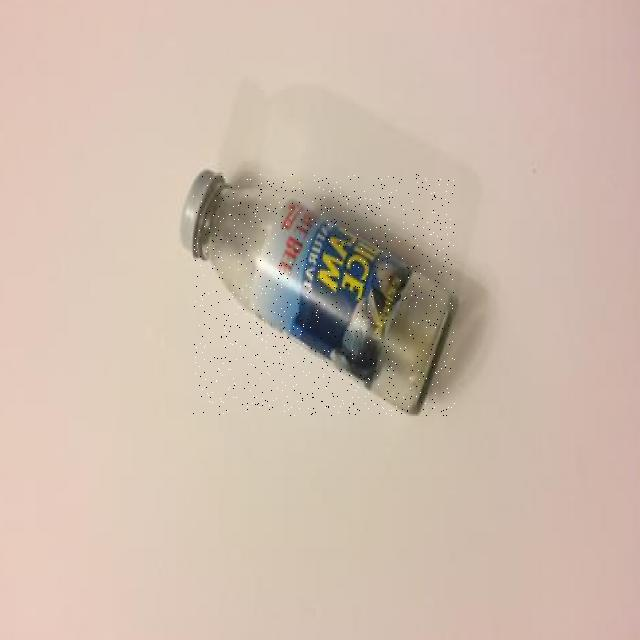glass: (193, 174, 455, 415)
